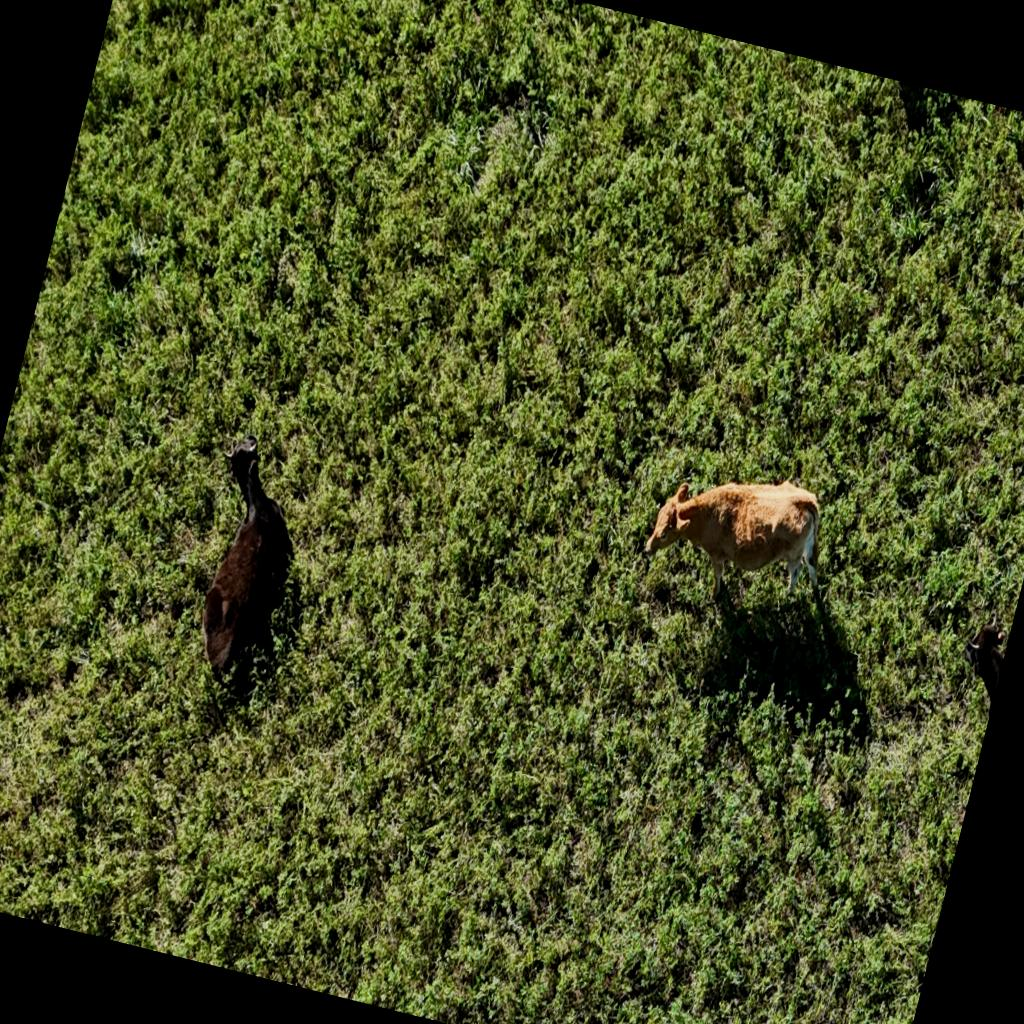cow: (122, 411, 344, 780), (608, 409, 871, 674), (919, 574, 1021, 771)
